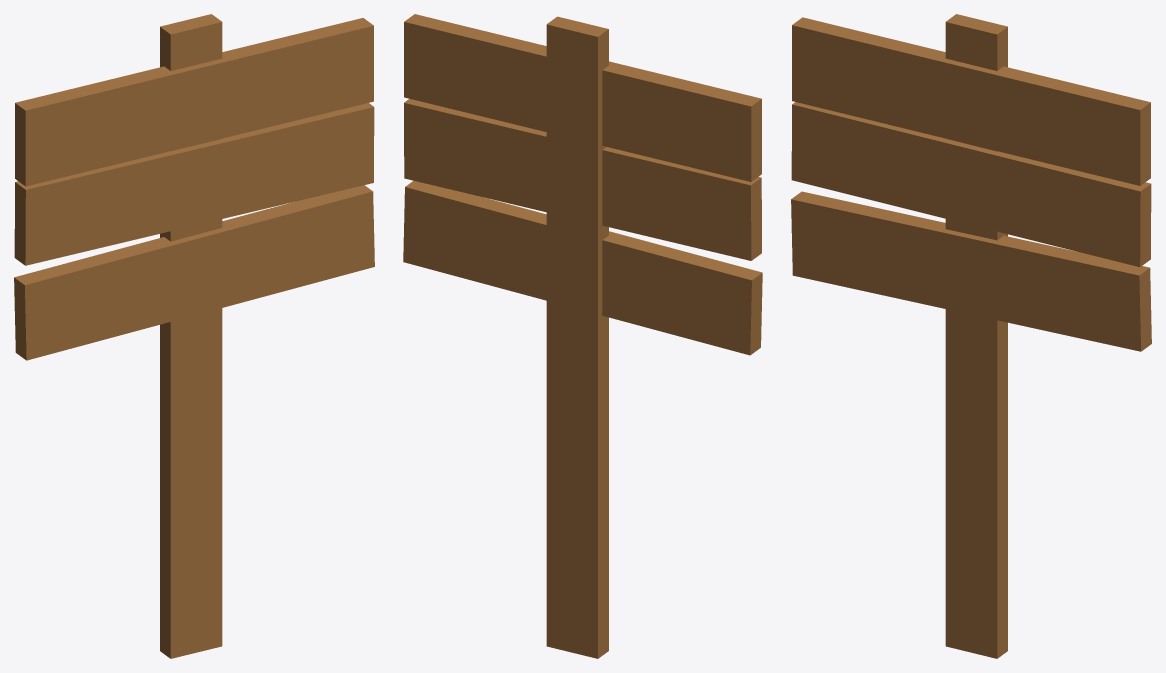
File: PlacaAviso.fbx
3 views of the same model, side by side, from view 1: azimuth 30°, elevation 25°; view 2: azimuth 150°, elevation 25°; view 3: azimuth 330°, elevation 25° (orthographic).
Visible parts, largest first — view 1: Cube; view 2: Cube; view 3: Cube.
Boxes of the visible parts, x1,y1,x2,y2 form: Cube: (14, 14, 374, 658); Cube: (403, 14, 762, 658); Cube: (791, 14, 1151, 658).
Bounding box in the file's own units: 357 × 609 × 26.76.
